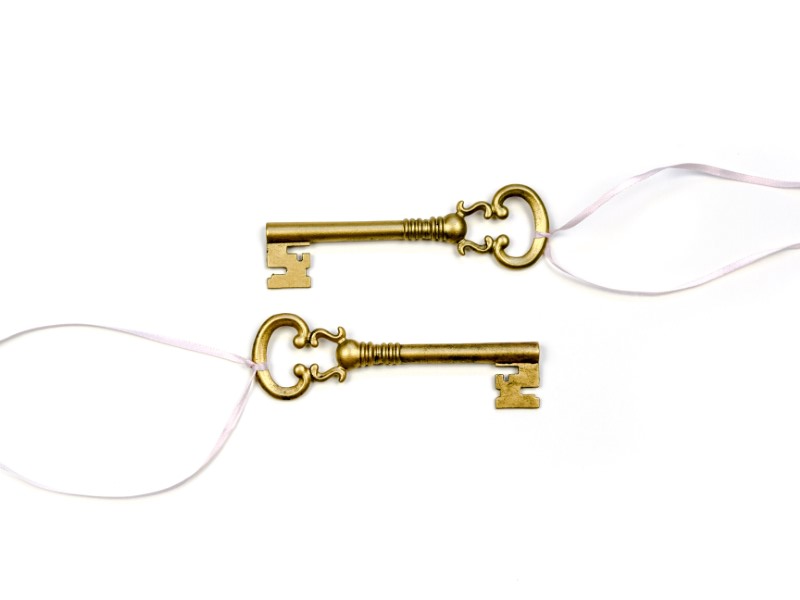key: (263, 183, 552, 295), (249, 312, 545, 405)
